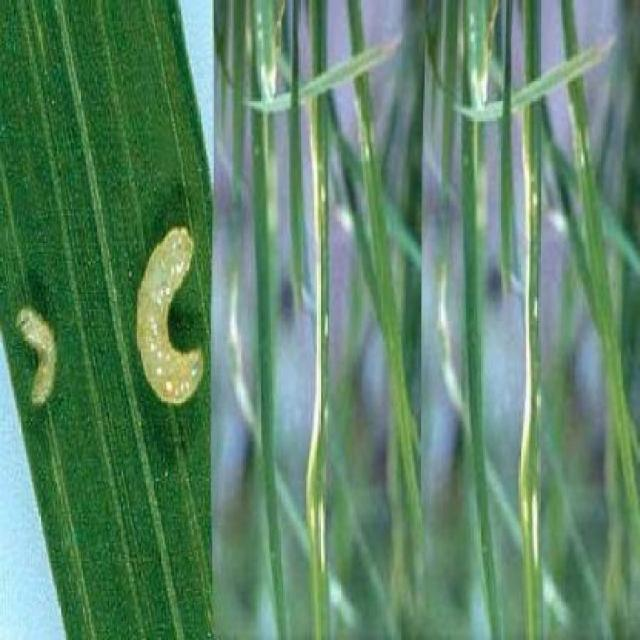whorl-maggot: (132, 219, 208, 423), (15, 303, 66, 411)
